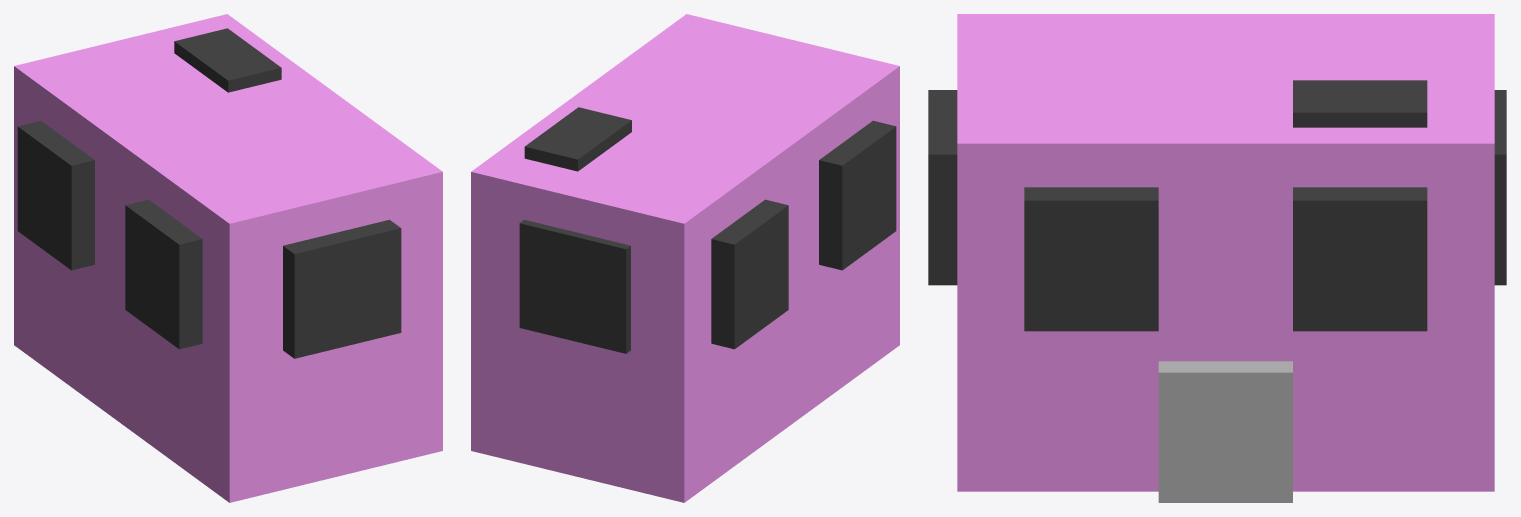
Rendered from SmallHouseCube3.fbx.
The picture shows the model from 3 angles, left to right: view 1: azimuth 30°, elevation 25°; view 2: azimuth 150°, elevation 25°; view 3: azimuth 270°, elevation 25°; orthographic projection. The views are drawn at different scales.
Parts seen in each view (by area): view 1: pCube3; view 2: pCube3; view 3: pCube3.
Boxes of the visible parts, <box> form: pCube3: <box>14,14,442,502</box>; pCube3: <box>471,14,899,502</box>; pCube3: <box>928,14,1506,502</box>.
Size of the model in its own units: 0.4854 by 0.5214 by 0.7534.
